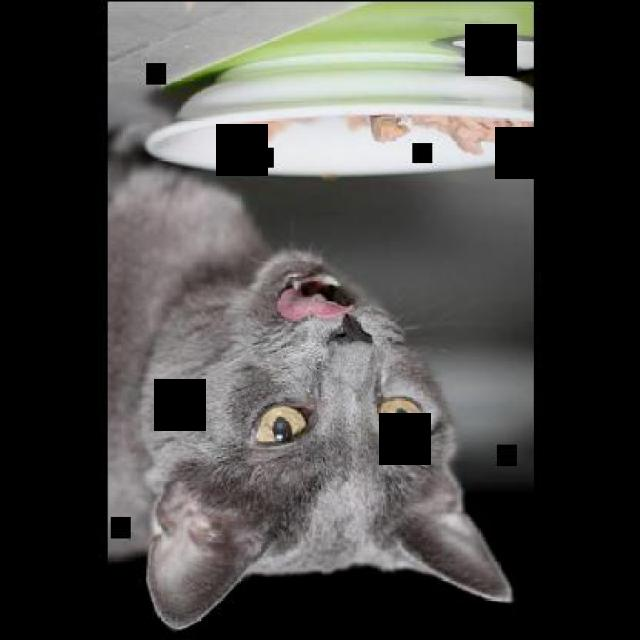unauthorized: (106, 88, 514, 630), (106, 88, 272, 563)
